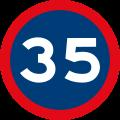Speed Limit -35-: (19, 34, 104, 86)
